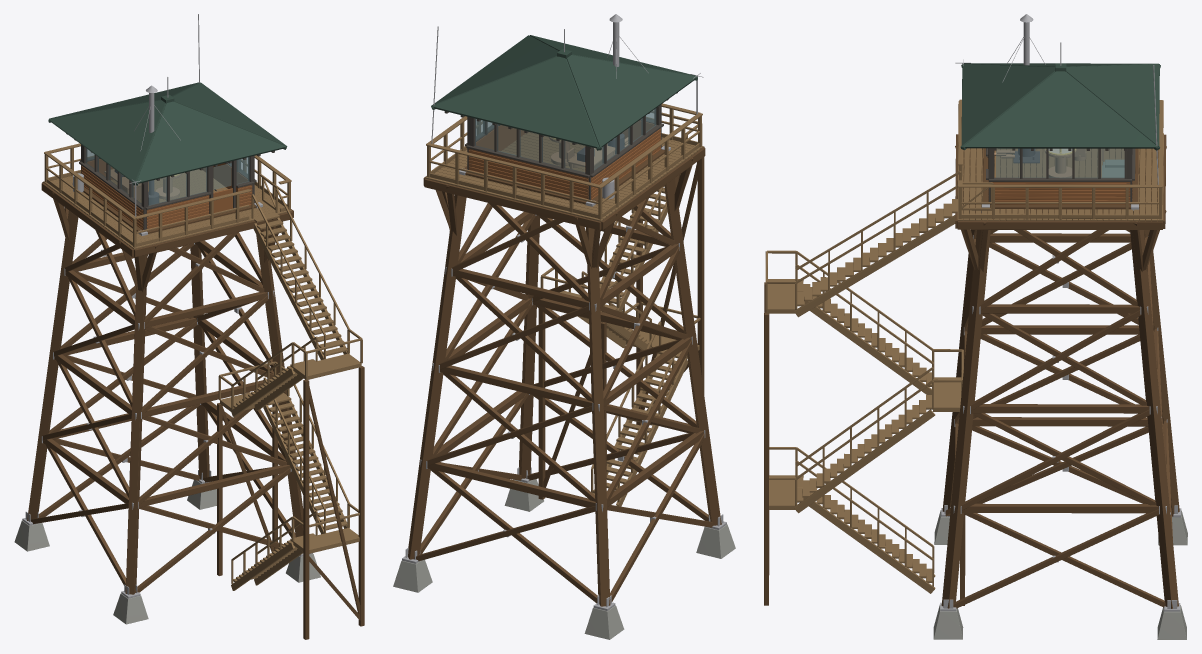
Rendered from tower.glb.
The picture shows the model from 3 angles, left to right: view 1: azimuth 30°, elevation 25°; view 2: azimuth 150°, elevation 25°; view 3: azimuth 270°, elevation 25°; orthographic projection. The views are drawn at different scales.
Visible parts, largest first — view 1: Tower_Diagonal_X_Braces, Tower_Cabin_Roof, Tower_Exterior_Switchback_Treads, Tower_Main_Columns, Tower_Horizontal_Girts, Tower_Exterior_Stair_Supports, Tower_Exterior_Switchback_Handrails, Tower_Catwalk_Railing, Tower_Continuous_Deck_and_Cabin_Floor, Tower_Cabin_Walls, Tower_Cabin_Glass, Tower_Concrete_Piers (+4 smaller); view 2: Tower_Diagonal_X_Braces, Tower_Cabin_Roof, Tower_Main_Columns, Tower_Horizontal_Girts, Tower_Catwalk_Railing, Tower_Exterior_Stair_Supports, Tower_Exterior_Switchback_Treads, Tower_Continuous_Deck_and_Cabin_Floor, Tower_Cabin_Walls, Tower_Cabin_Glass, Tower_Concrete_Piers, Tower_Cabin_Trim (+7 smaller); view 3: Tower_Diagonal_X_Braces, Tower_Cabin_Roof, Tower_Exterior_Switchback_Treads, Tower_Main_Columns, Tower_Horizontal_Girts, Tower_Exterior_Switchback_Handrails, Tower_Continuous_Deck_and_Cabin_Floor, Tower_Catwalk_Railing, Tower_Cabin_Glass, Tower_Subfloor_Joists, Tower_Concrete_Piers, Tower_Cabin_Walls (+4 smaller).
Part boxes in pixels (bbox=[...]): Tower_Diagonal_X_Braces: bbox=[31, 230, 295, 592]; Tower_Cabin_Roof: bbox=[48, 82, 287, 185]; Tower_Exterior_Switchback_Treads: bbox=[220, 213, 361, 590]; Tower_Main_Columns: bbox=[27, 210, 303, 594]; Tower_Horizontal_Girts: bbox=[43, 187, 290, 507]; Tower_Exterior_Stair_Supports: bbox=[217, 366, 364, 639]; Tower_Exterior_Switchback_Handrails: bbox=[218, 188, 362, 583]; Tower_Catwalk_Railing: bbox=[44, 143, 291, 247]; Tower_Continuous_Deck_and_Cabin_Floor: bbox=[43, 169, 291, 249]; Tower_Cabin_Walls: bbox=[81, 159, 252, 229]; Tower_Cabin_Glass: bbox=[86, 148, 247, 205]; Tower_Concrete_Piers: bbox=[14, 480, 320, 624]; Tower_Diagonal_X_Braces: bbox=[414, 196, 712, 603]; Tower_Cabin_Roof: bbox=[431, 35, 697, 150]; Tower_Main_Columns: bbox=[408, 178, 721, 606]; Tower_Horizontal_Girts: bbox=[427, 146, 703, 507]; Tower_Catwalk_Railing: bbox=[426, 103, 702, 219]; Tower_Exterior_Stair_Supports: bbox=[538, 157, 704, 499]; Tower_Exterior_Switchback_Treads: bbox=[551, 174, 699, 506]; Tower_Continuous_Deck_and_Cabin_Floor: bbox=[425, 132, 703, 221]; Tower_Cabin_Walls: bbox=[468, 120, 660, 199]; Tower_Cabin_Glass: bbox=[475, 108, 656, 172]; Tower_Concrete_Piers: bbox=[393, 479, 735, 639]; Tower_Cabin_Trim: bbox=[465, 104, 663, 199]; Tower_Diagonal_X_Braces: bbox=[945, 155, 1173, 608]; Tower_Cabin_Roof: bbox=[960, 63, 1160, 150]; Tower_Exterior_Switchback_Treads: bbox=[766, 199, 961, 593]; Tower_Main_Columns: bbox=[941, 148, 1179, 608]; Tower_Horizontal_Girts: bbox=[955, 148, 1166, 513]; Tower_Exterior_Switchback_Handrails: bbox=[765, 171, 963, 586]; Tower_Continuous_Deck_and_Cabin_Floor: bbox=[957, 133, 1163, 221]; Tower_Catwalk_Railing: bbox=[957, 99, 1163, 219]; Tower_Cabin_Glass: bbox=[996, 148, 1124, 177]; Tower_Subfloor_Joists: bbox=[955, 134, 1166, 229]; Tower_Concrete_Piers: bbox=[933, 510, 1187, 639]; Tower_Cabin_Walls: bbox=[988, 180, 1132, 204].
Size of the model in its own units: 8.18 by 19.9 by 13.63.
